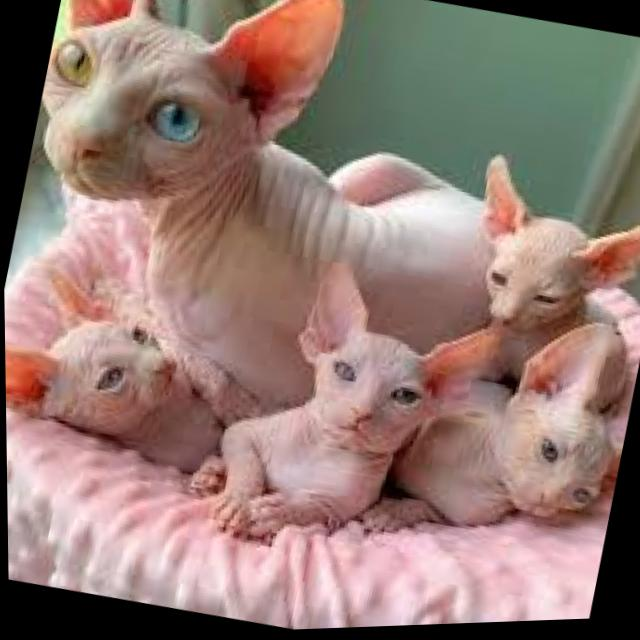cat: (16, 0, 401, 299), (216, 260, 490, 559), (386, 287, 640, 583), (3, 258, 240, 481), (447, 131, 640, 376)
